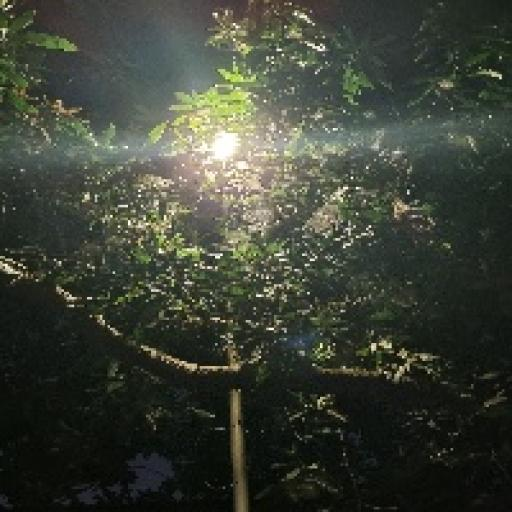Working: (196, 121, 259, 173)
